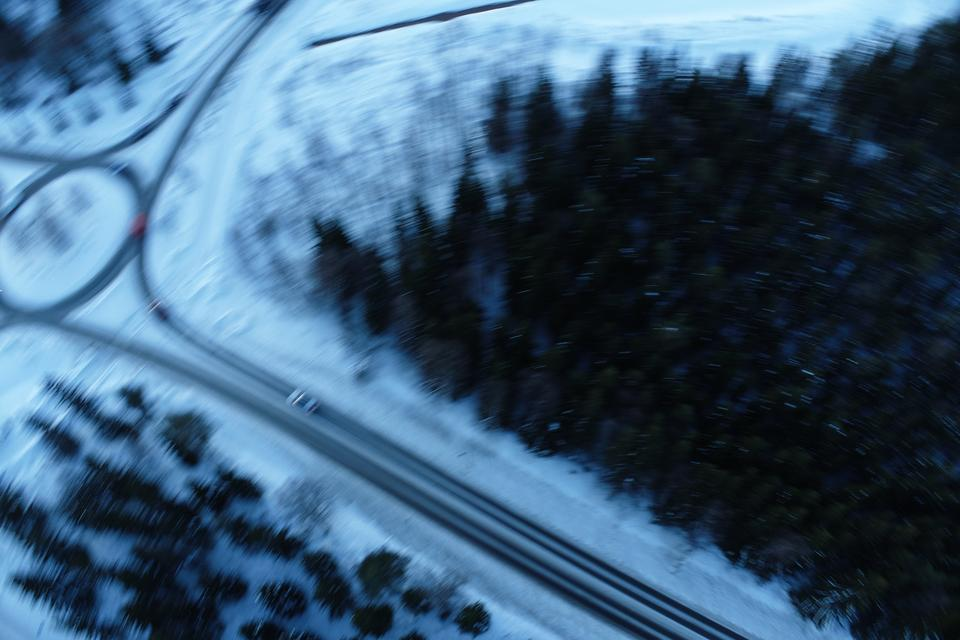roundabout: (0, 118, 193, 366)
